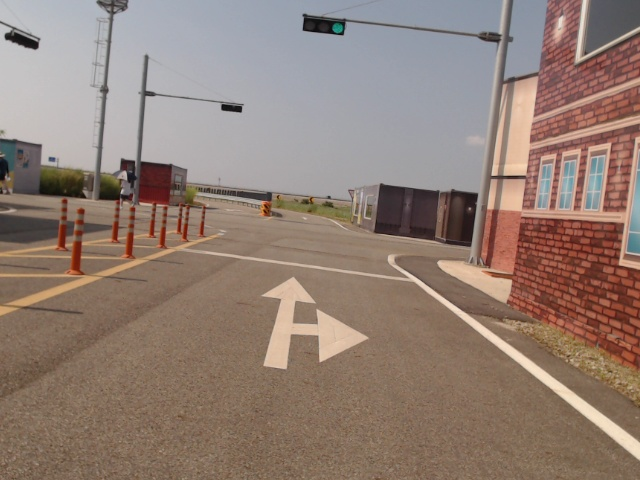green_3: (302, 16, 346, 36)
